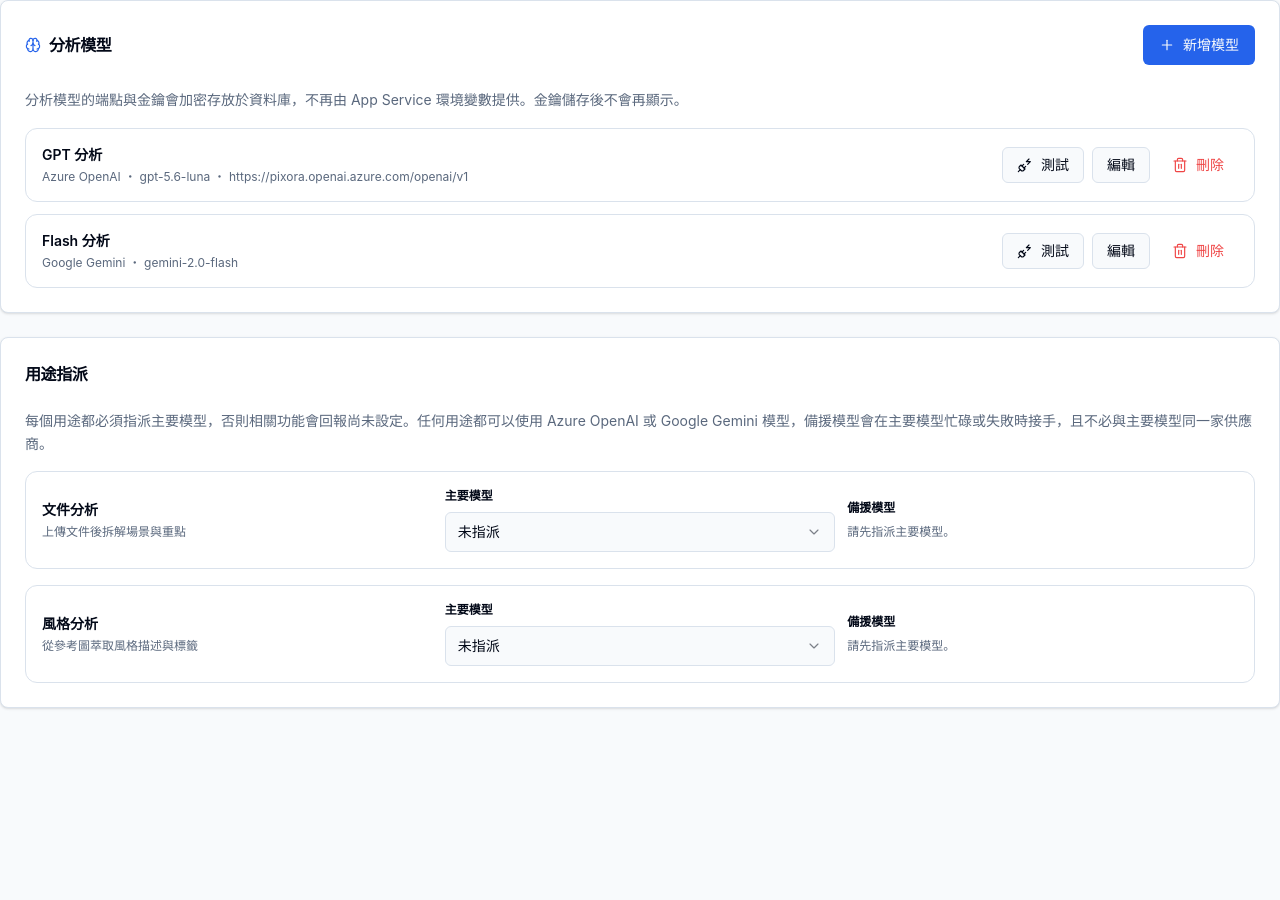
Scenario: LlmModelSettings › surfaces a failed connectivity test
Check: the text "GPT 分析" is shown, box [42,146,102,163]
Click the button "測試" in the row of "GPT 分析": [1043, 165] box [1002,147,1084,183]
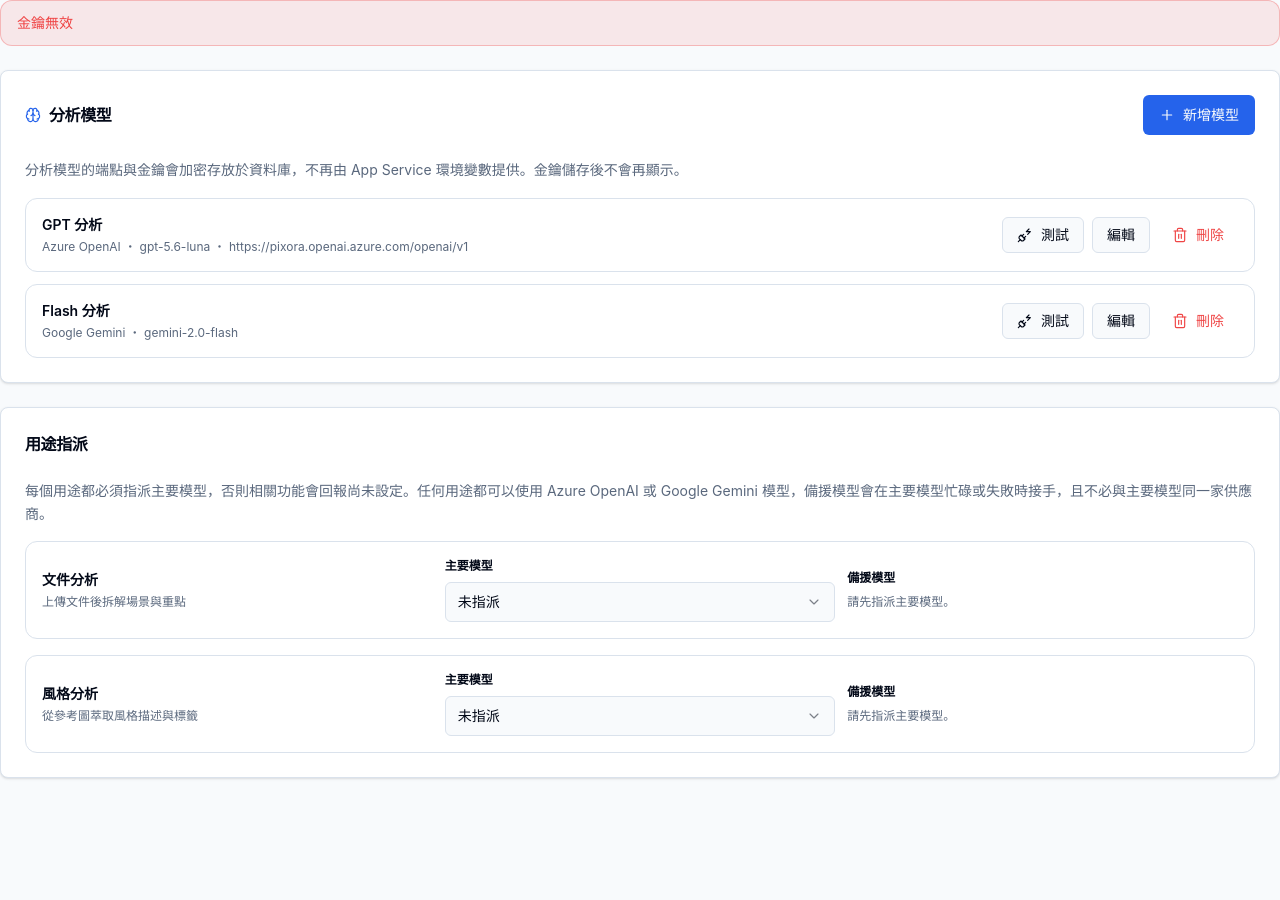
Check: the message reads "金鑰無效", box [17,14,73,31]
